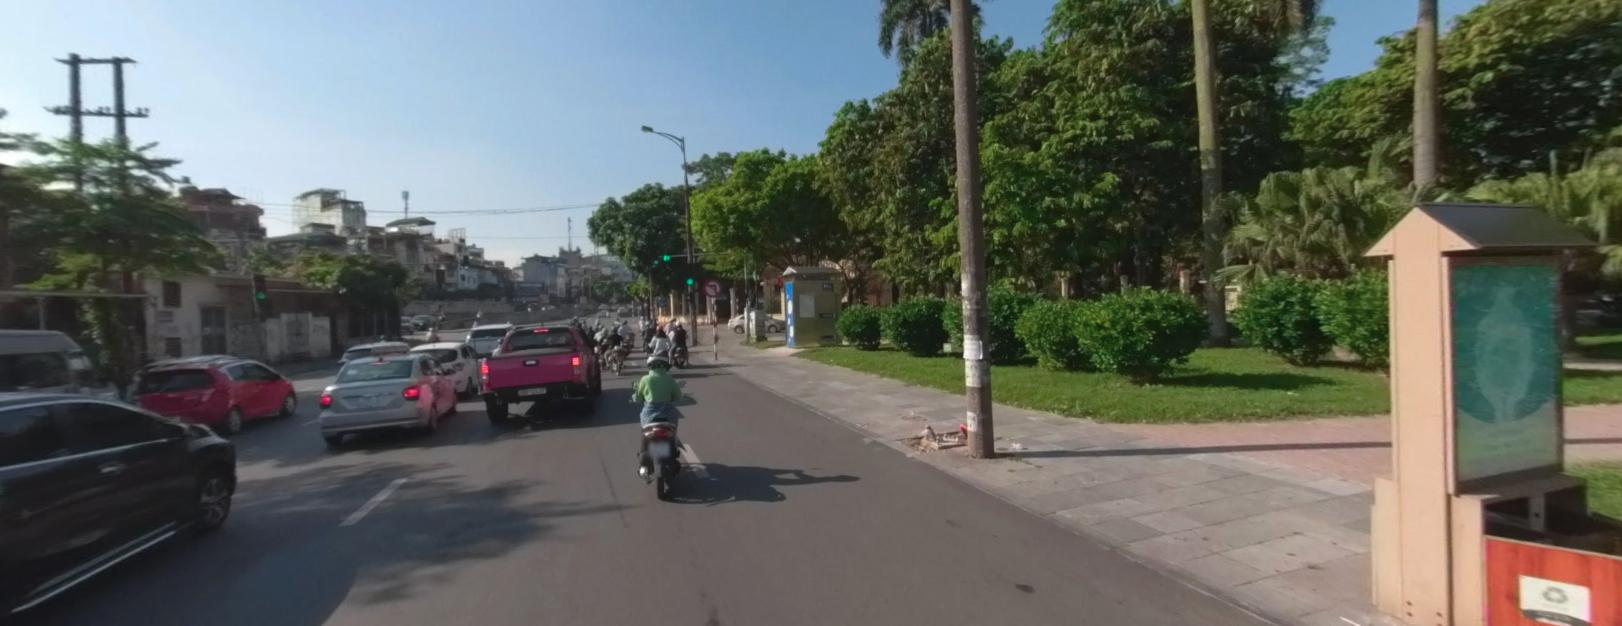Cam re: (702, 276, 722, 295)
